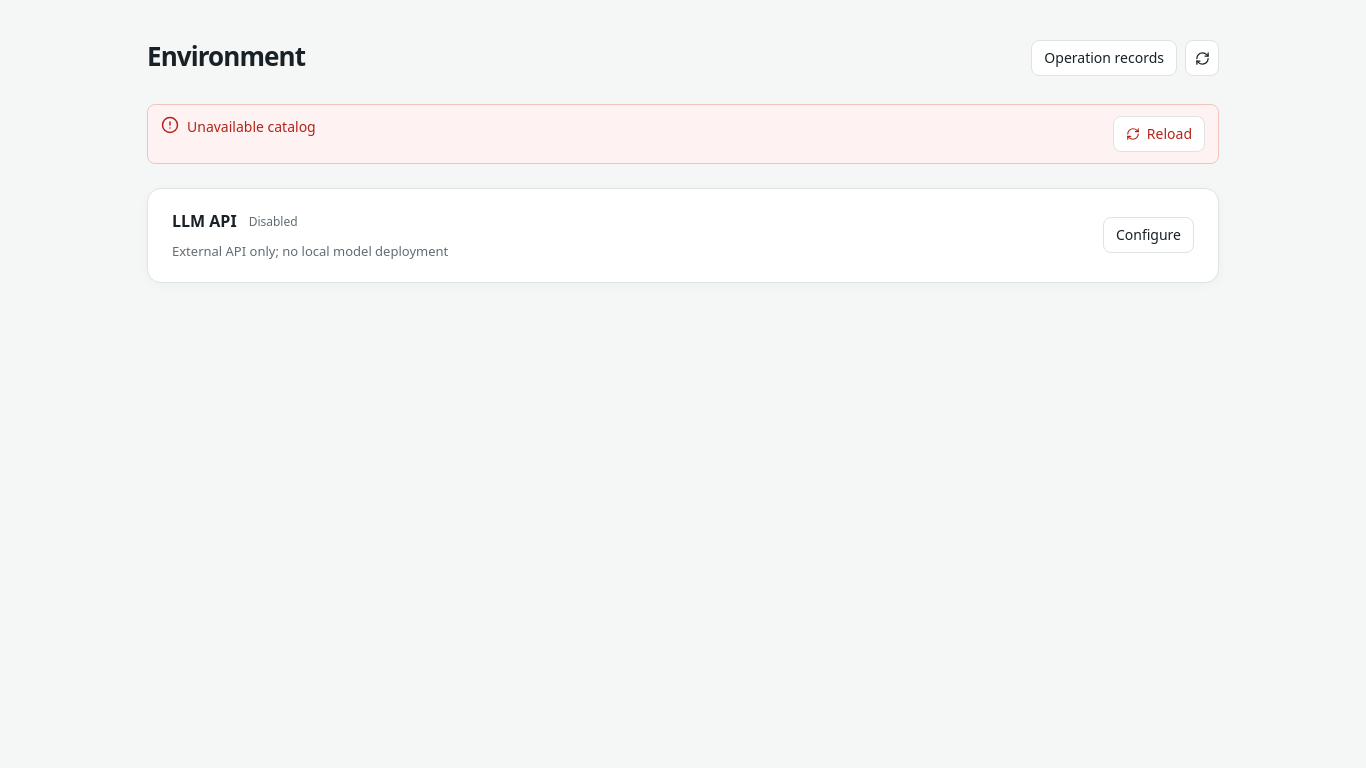
Test: retains independent record access when the component catalog is unavailable
Expected: the message shows "Unavailable catalog", [187,117,316,136]
Click the button "Operation records" at (1104, 58), box [1031,40,1177,76]
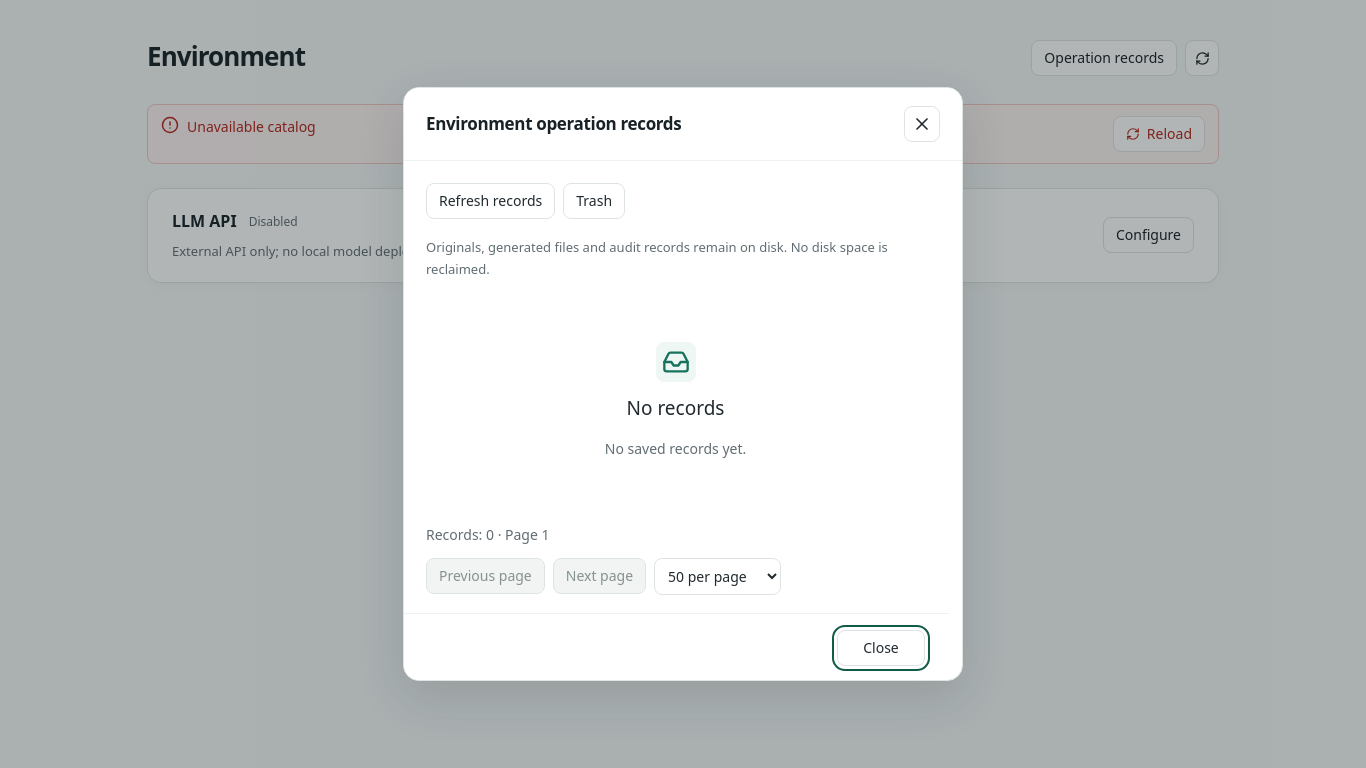
Expected: the dialog "Environment operation records" is shown, [403,87,963,681]
